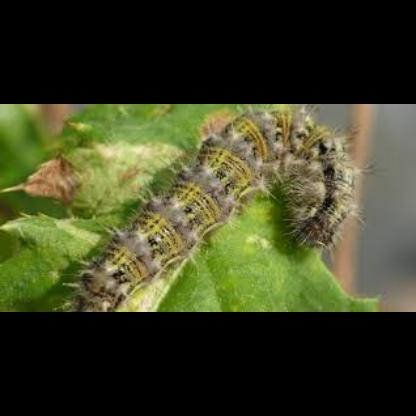oruga: (54, 104, 360, 312)
